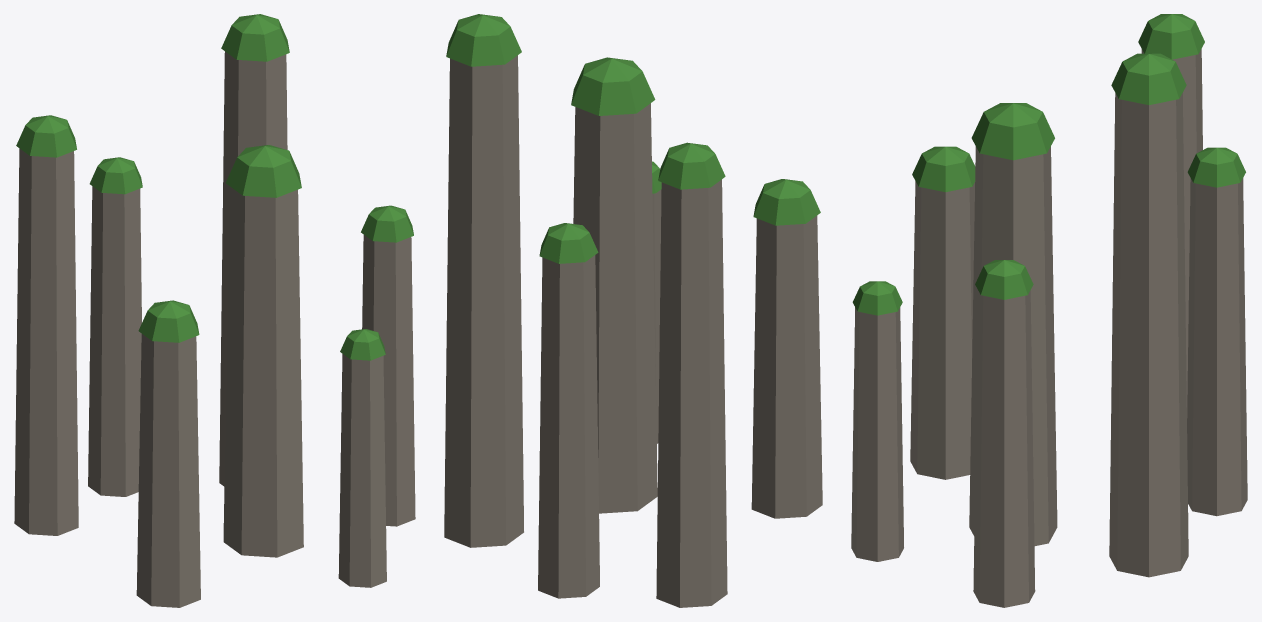
Rendered from zhangjiajie.glb.
3 views of the same model, side by side, from view 1: azimuth 30°, elevation 25°; view 2: azimuth 150°, elevation 25°; view 3: azimuth 270°, elevation 25° (orthographic). The views are drawn at different scales.
Visible parts, largest first — view 1: zhangjiajie; view 2: zhangjiajie; view 3: zhangjiajie.
Part boxes in pixels (x1,y1,x2,y2): zhangjiajie: (14,14,415,607); zhangjiajie: (444,14,822,607); zhangjiajie: (851,14,1247,607).
Size of the model in its own units: 0.8721 by 1.24 by 0.8767.
